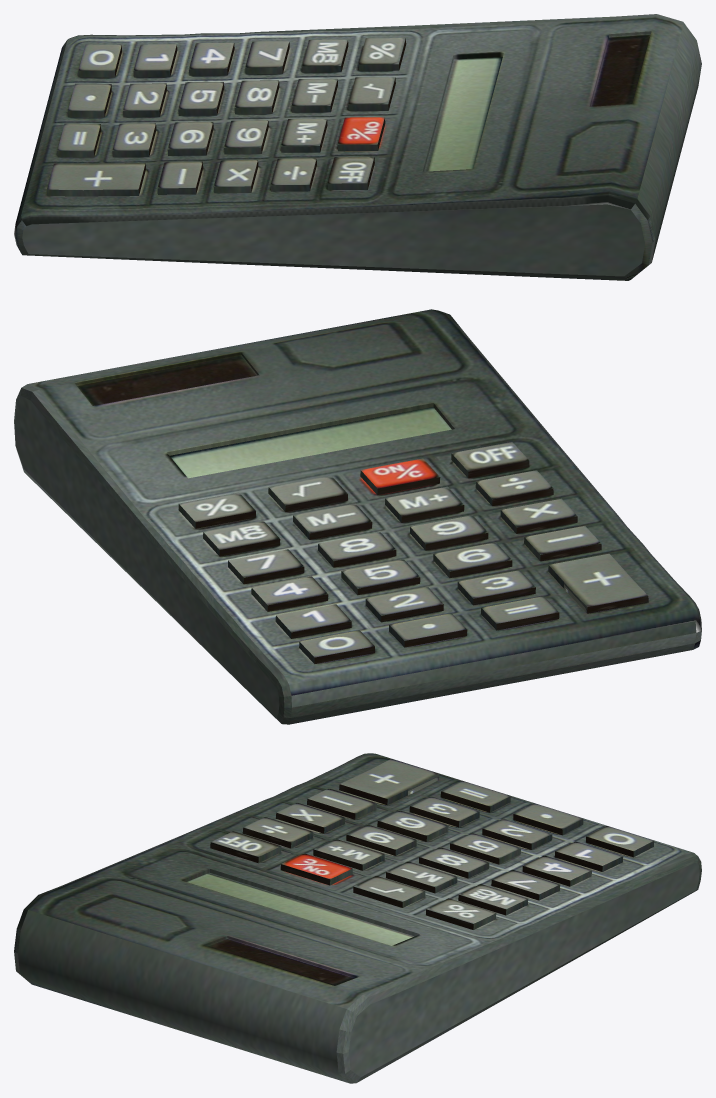
Rendered from Calc.fbx.
3 views of the same model, one above another, from view 1: azimuth 30°, elevation 25°; view 2: azimuth 150°, elevation 25°; view 3: azimuth 270°, elevation 25° (orthographic). The views are drawn at different scales.
Parts seen in each view (by area): view 1: B_Electric_0_018; view 2: B_Electric_0_018; view 3: B_Electric_0_018.
Part boxes in pixels (bbox=[...]): B_Electric_0_018: bbox=[14, 14, 701, 280]; B_Electric_0_018: bbox=[14, 309, 701, 724]; B_Electric_0_018: bbox=[14, 753, 701, 1083].
Bounding box in the file's own units: 154 × 19.47 × 145.
2 materials, 2 textured.
